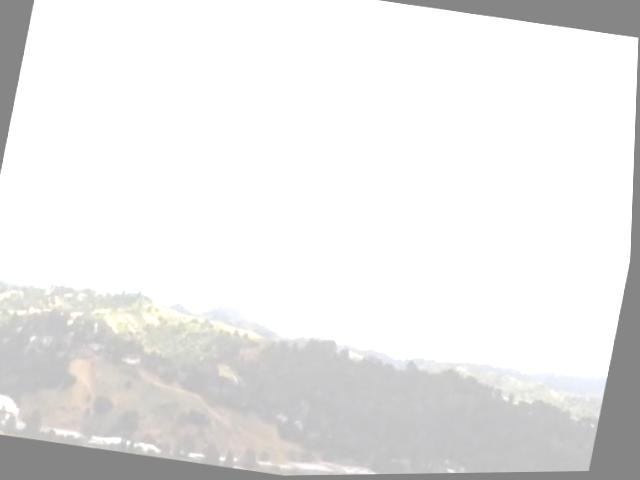iha: (430, 204, 448, 224)
